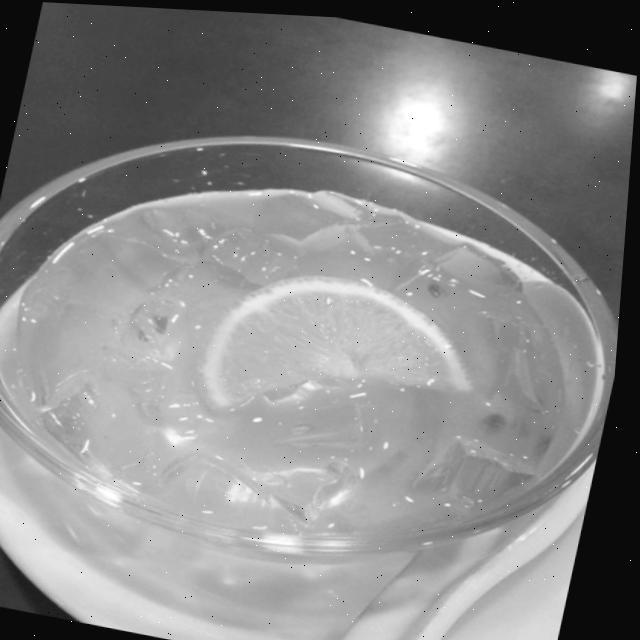蛋糕甜品: (0, 59, 637, 640)
